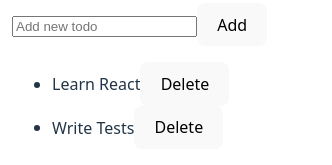
Test: TodoList Component › can delete a todo
This screenshot has width=332, height=165.
Click the button "Delete" next to "Write Tests".
click(179, 127)  # box [134,106,223,149]
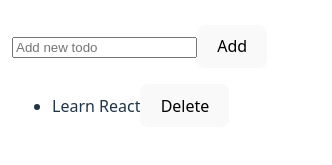
expect the text "Write Tests" is gone: met
